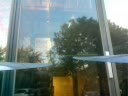window: (0, 0, 62, 96), (71, 46, 95, 76), (70, 13, 91, 29), (120, 28, 128, 42), (120, 63, 128, 69)
